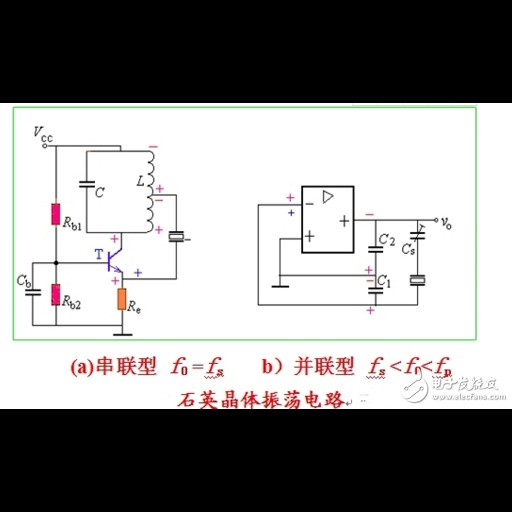capacitor: (365, 243, 385, 257), (72, 178, 97, 189), (364, 285, 384, 297), (21, 288, 42, 297)
firstresistance: (47, 199, 62, 228), (48, 281, 62, 309), (113, 286, 127, 312)
inductor: (145, 150, 156, 232)
